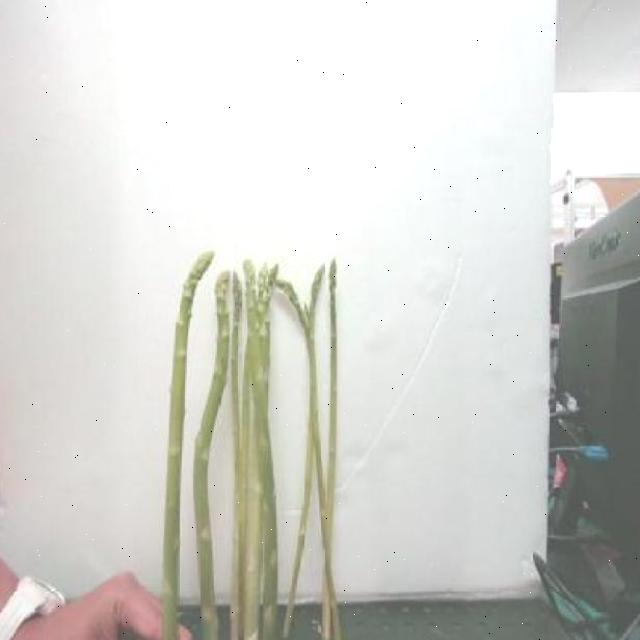aspargus: (161, 250, 338, 640)
